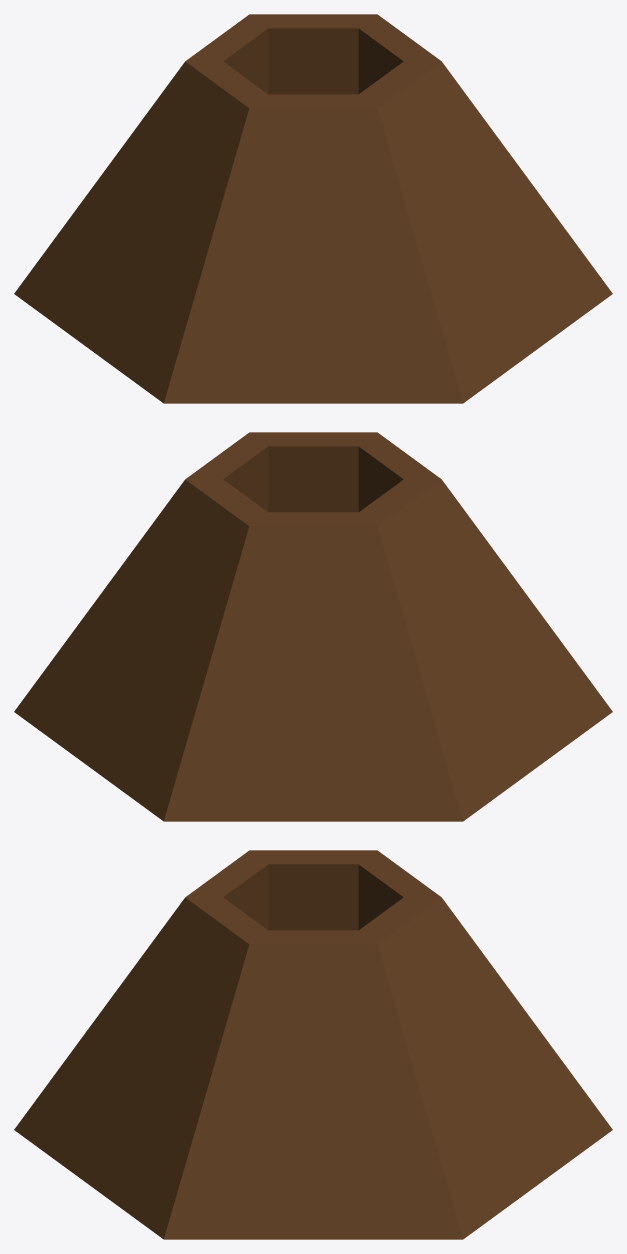
The model's file is Mesh_Stump_Poison.glb.
3 views of the same model, one above another, from view 1: azimuth 30°, elevation 25°; view 2: azimuth 150°, elevation 25°; view 3: azimuth 270°, elevation 25° (orthographic).
Visible parts, largest first — view 1: Mesh_Stump_Poison; view 2: Mesh_Stump_Poison; view 3: Mesh_Stump_Poison.
Part boxes in pixels (x1,y1,x2,y2): Mesh_Stump_Poison: (14,14,612,403); Mesh_Stump_Poison: (14,432,612,821); Mesh_Stump_Poison: (14,850,612,1239).
Bounding box in the file's own units: 0.579 × 0.2863 × 0.6685.
Materials: 1 (1 with a texture image).
